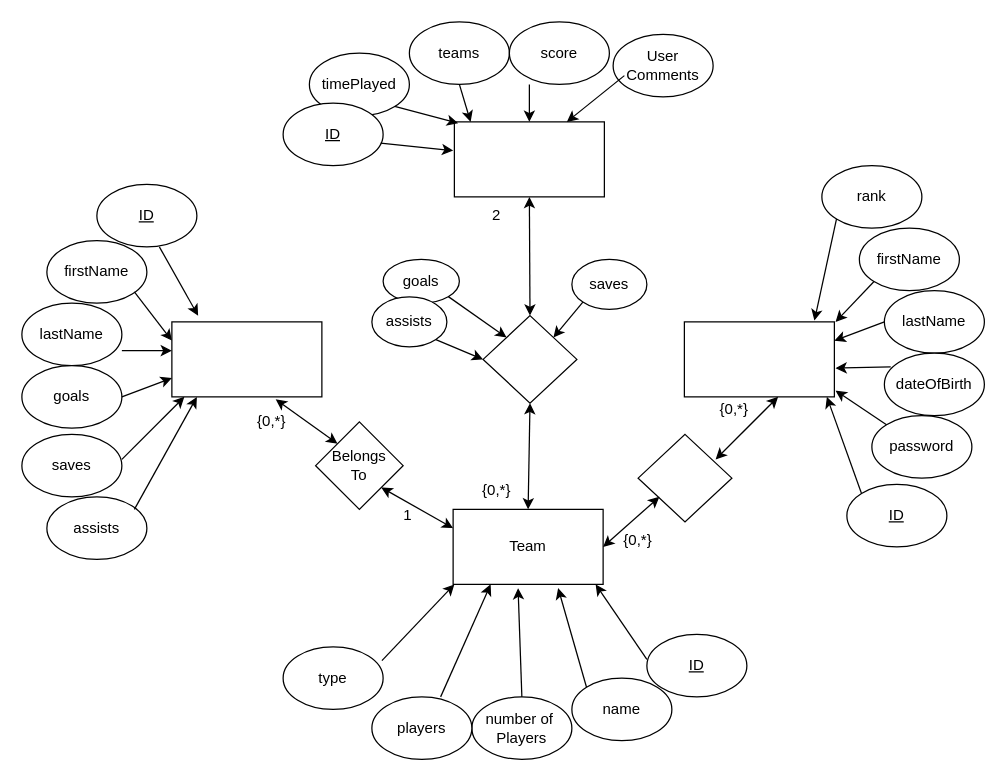
Some shapes in this 1006 by 781 pixel diagram are drawn without their labels. Here are the shapes that lost their labels. From the top down, the centre of each, then its label:
At point 528,159: "Game".
At point 246,359: "Player".
At point 529,358: "Plays In".
At point 758,359: "User".
At point 684,477: "Has a".
